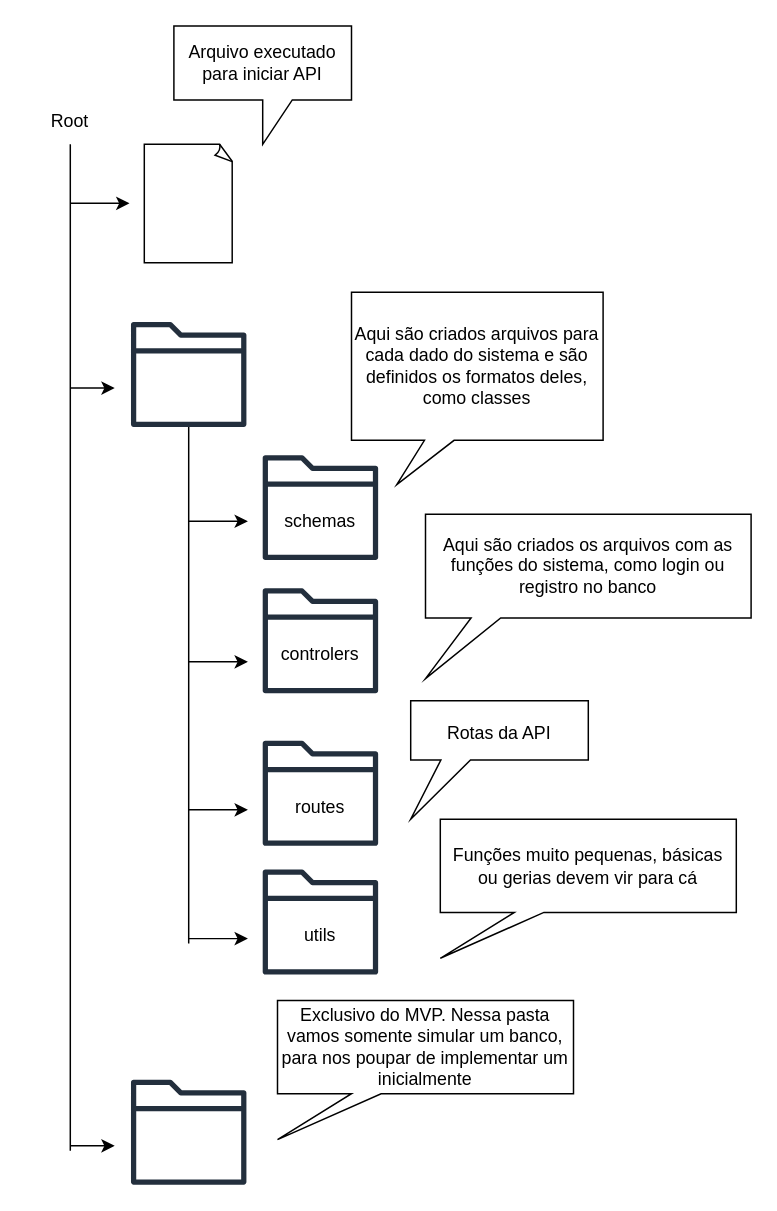
Image size: 777x1211. Some labels were removed from this diagram. Here are the shapes that lost their labels. From the top down, the centre of each, then its label:
[188,203]: app.jl
[188,373]: src
[188,1131]: database
